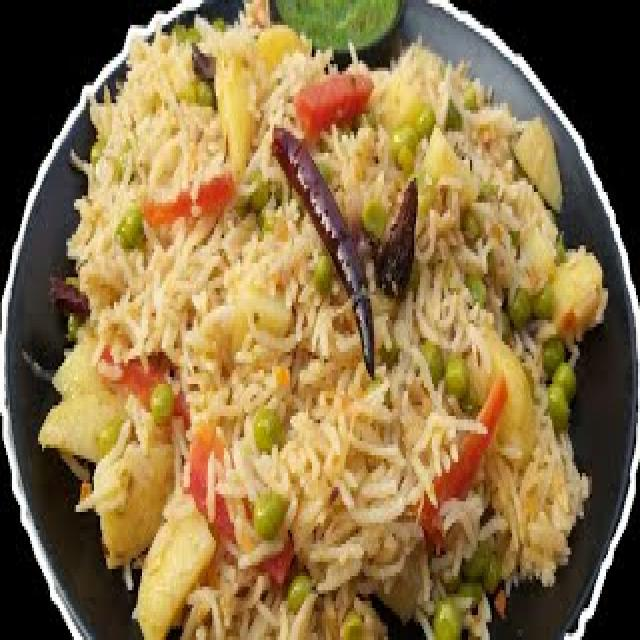veg palav: (32, 0, 640, 640)
